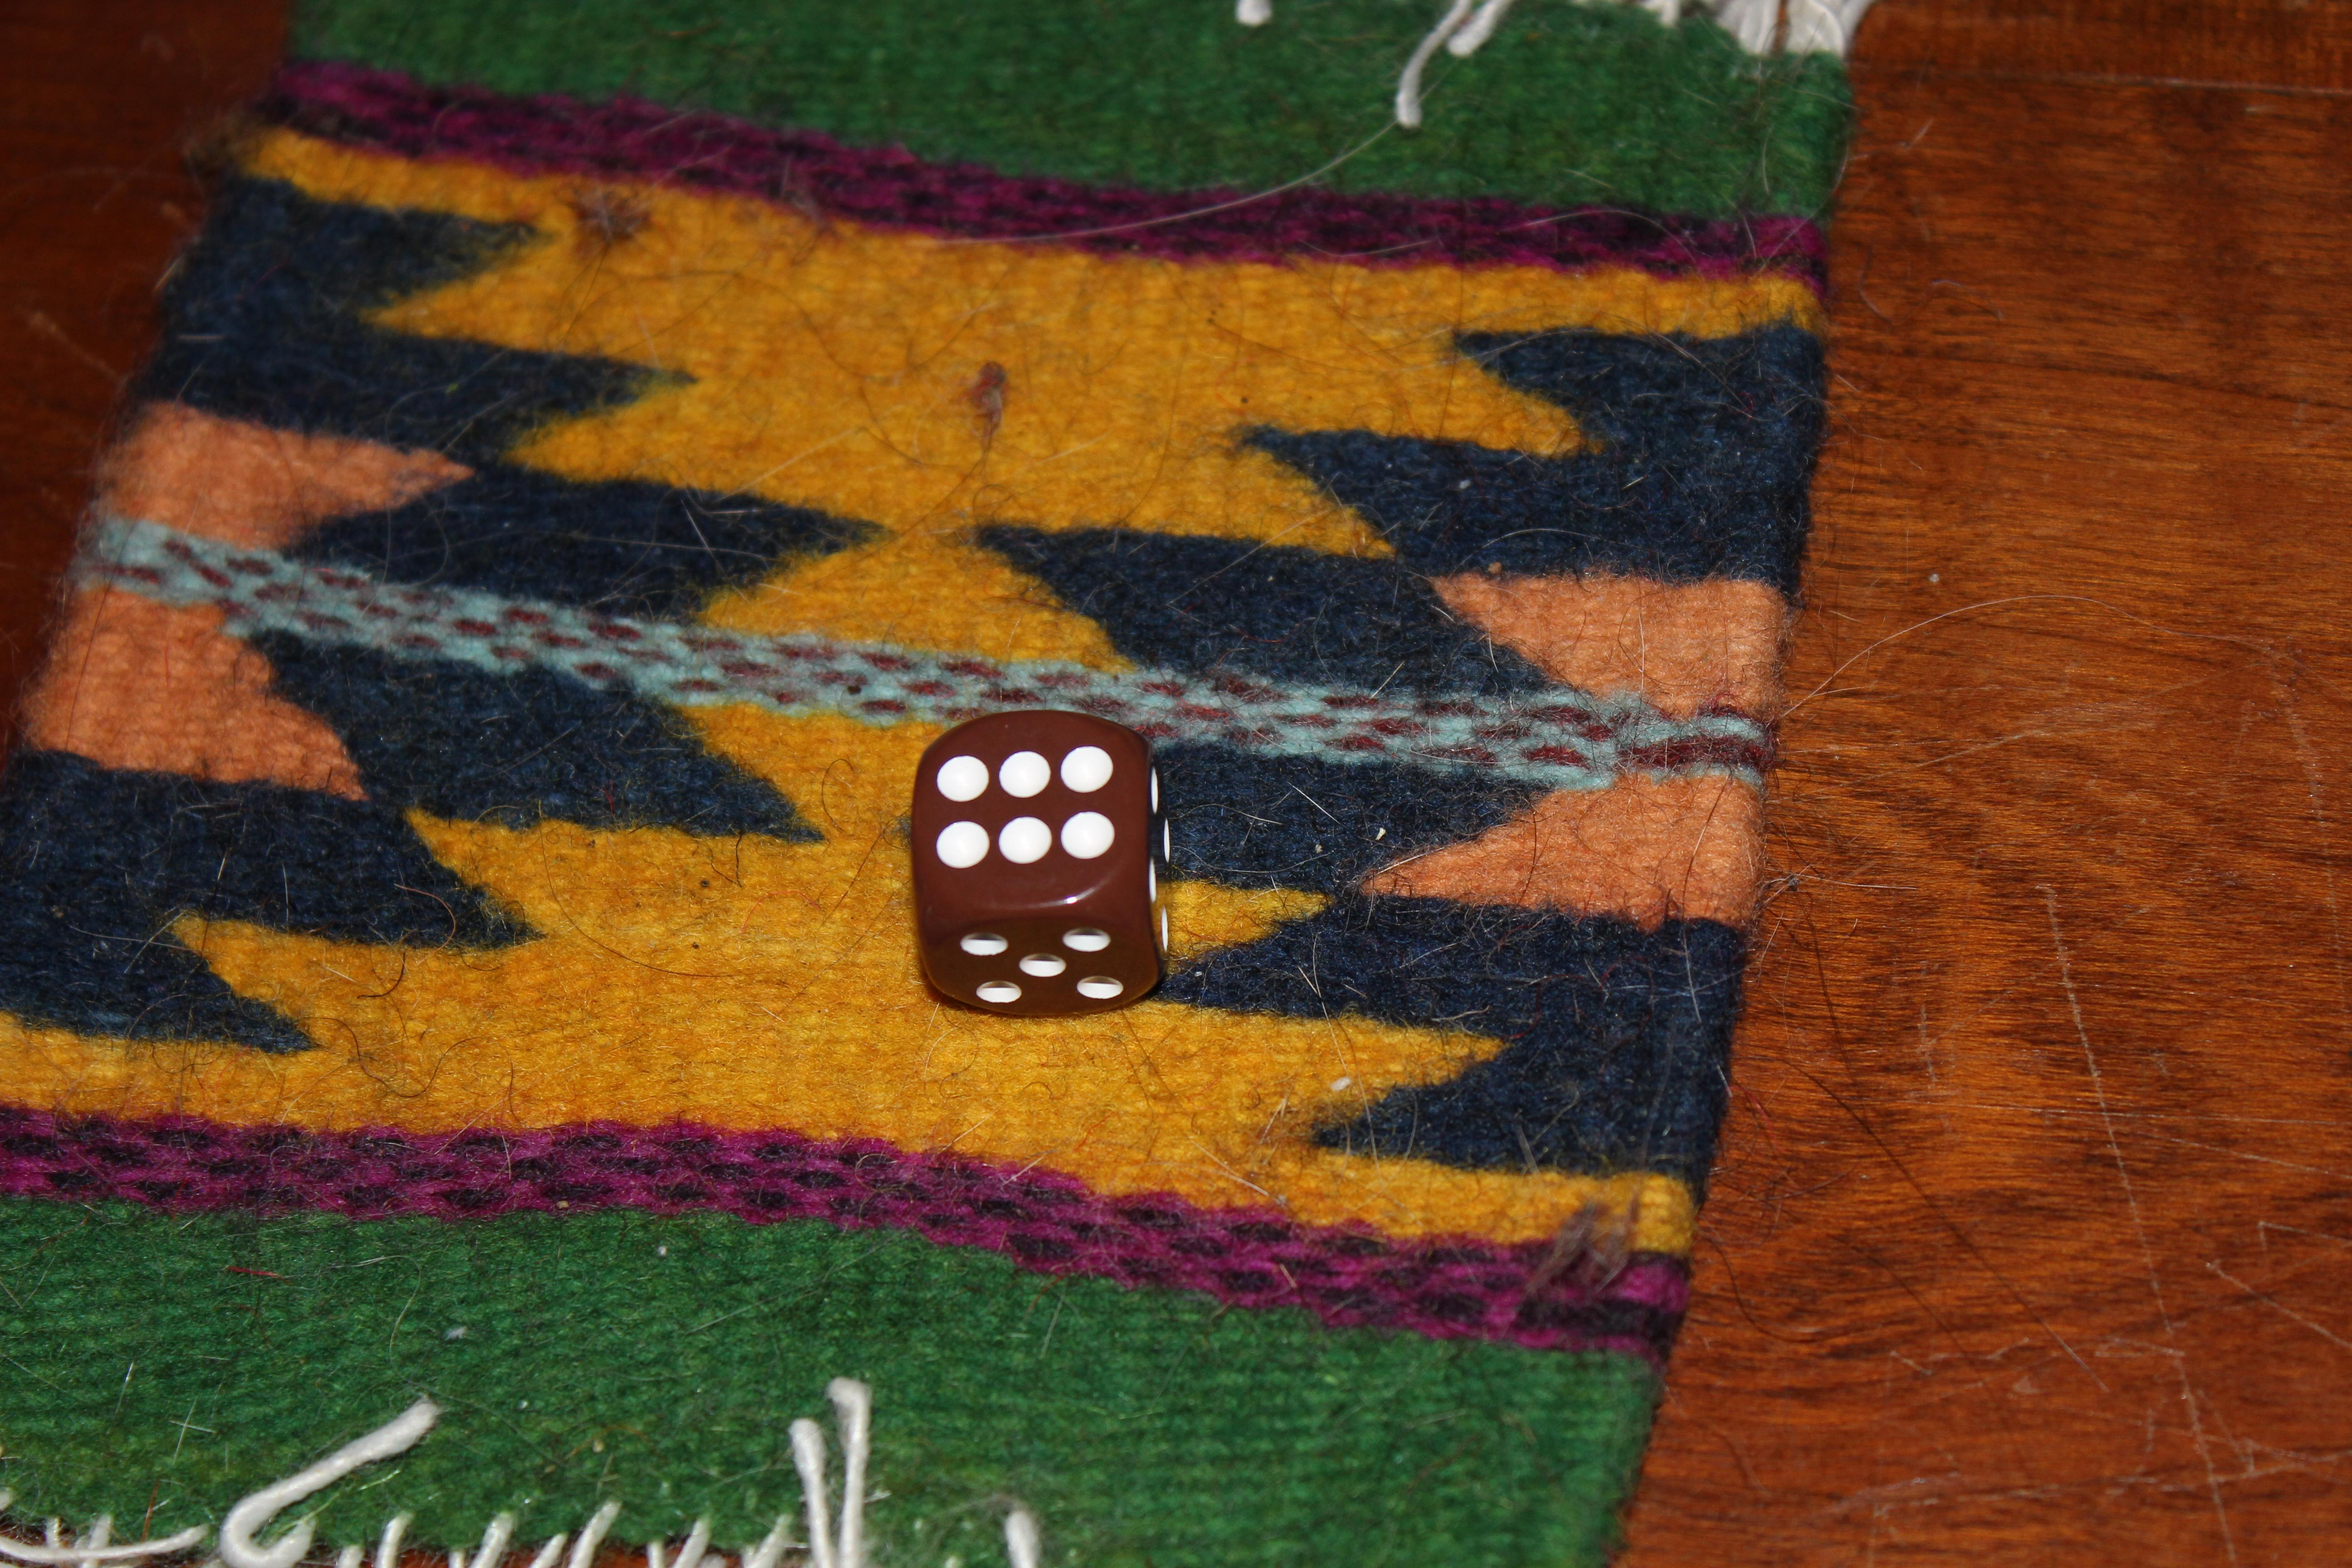brownDie: (868, 677, 1218, 1050)
